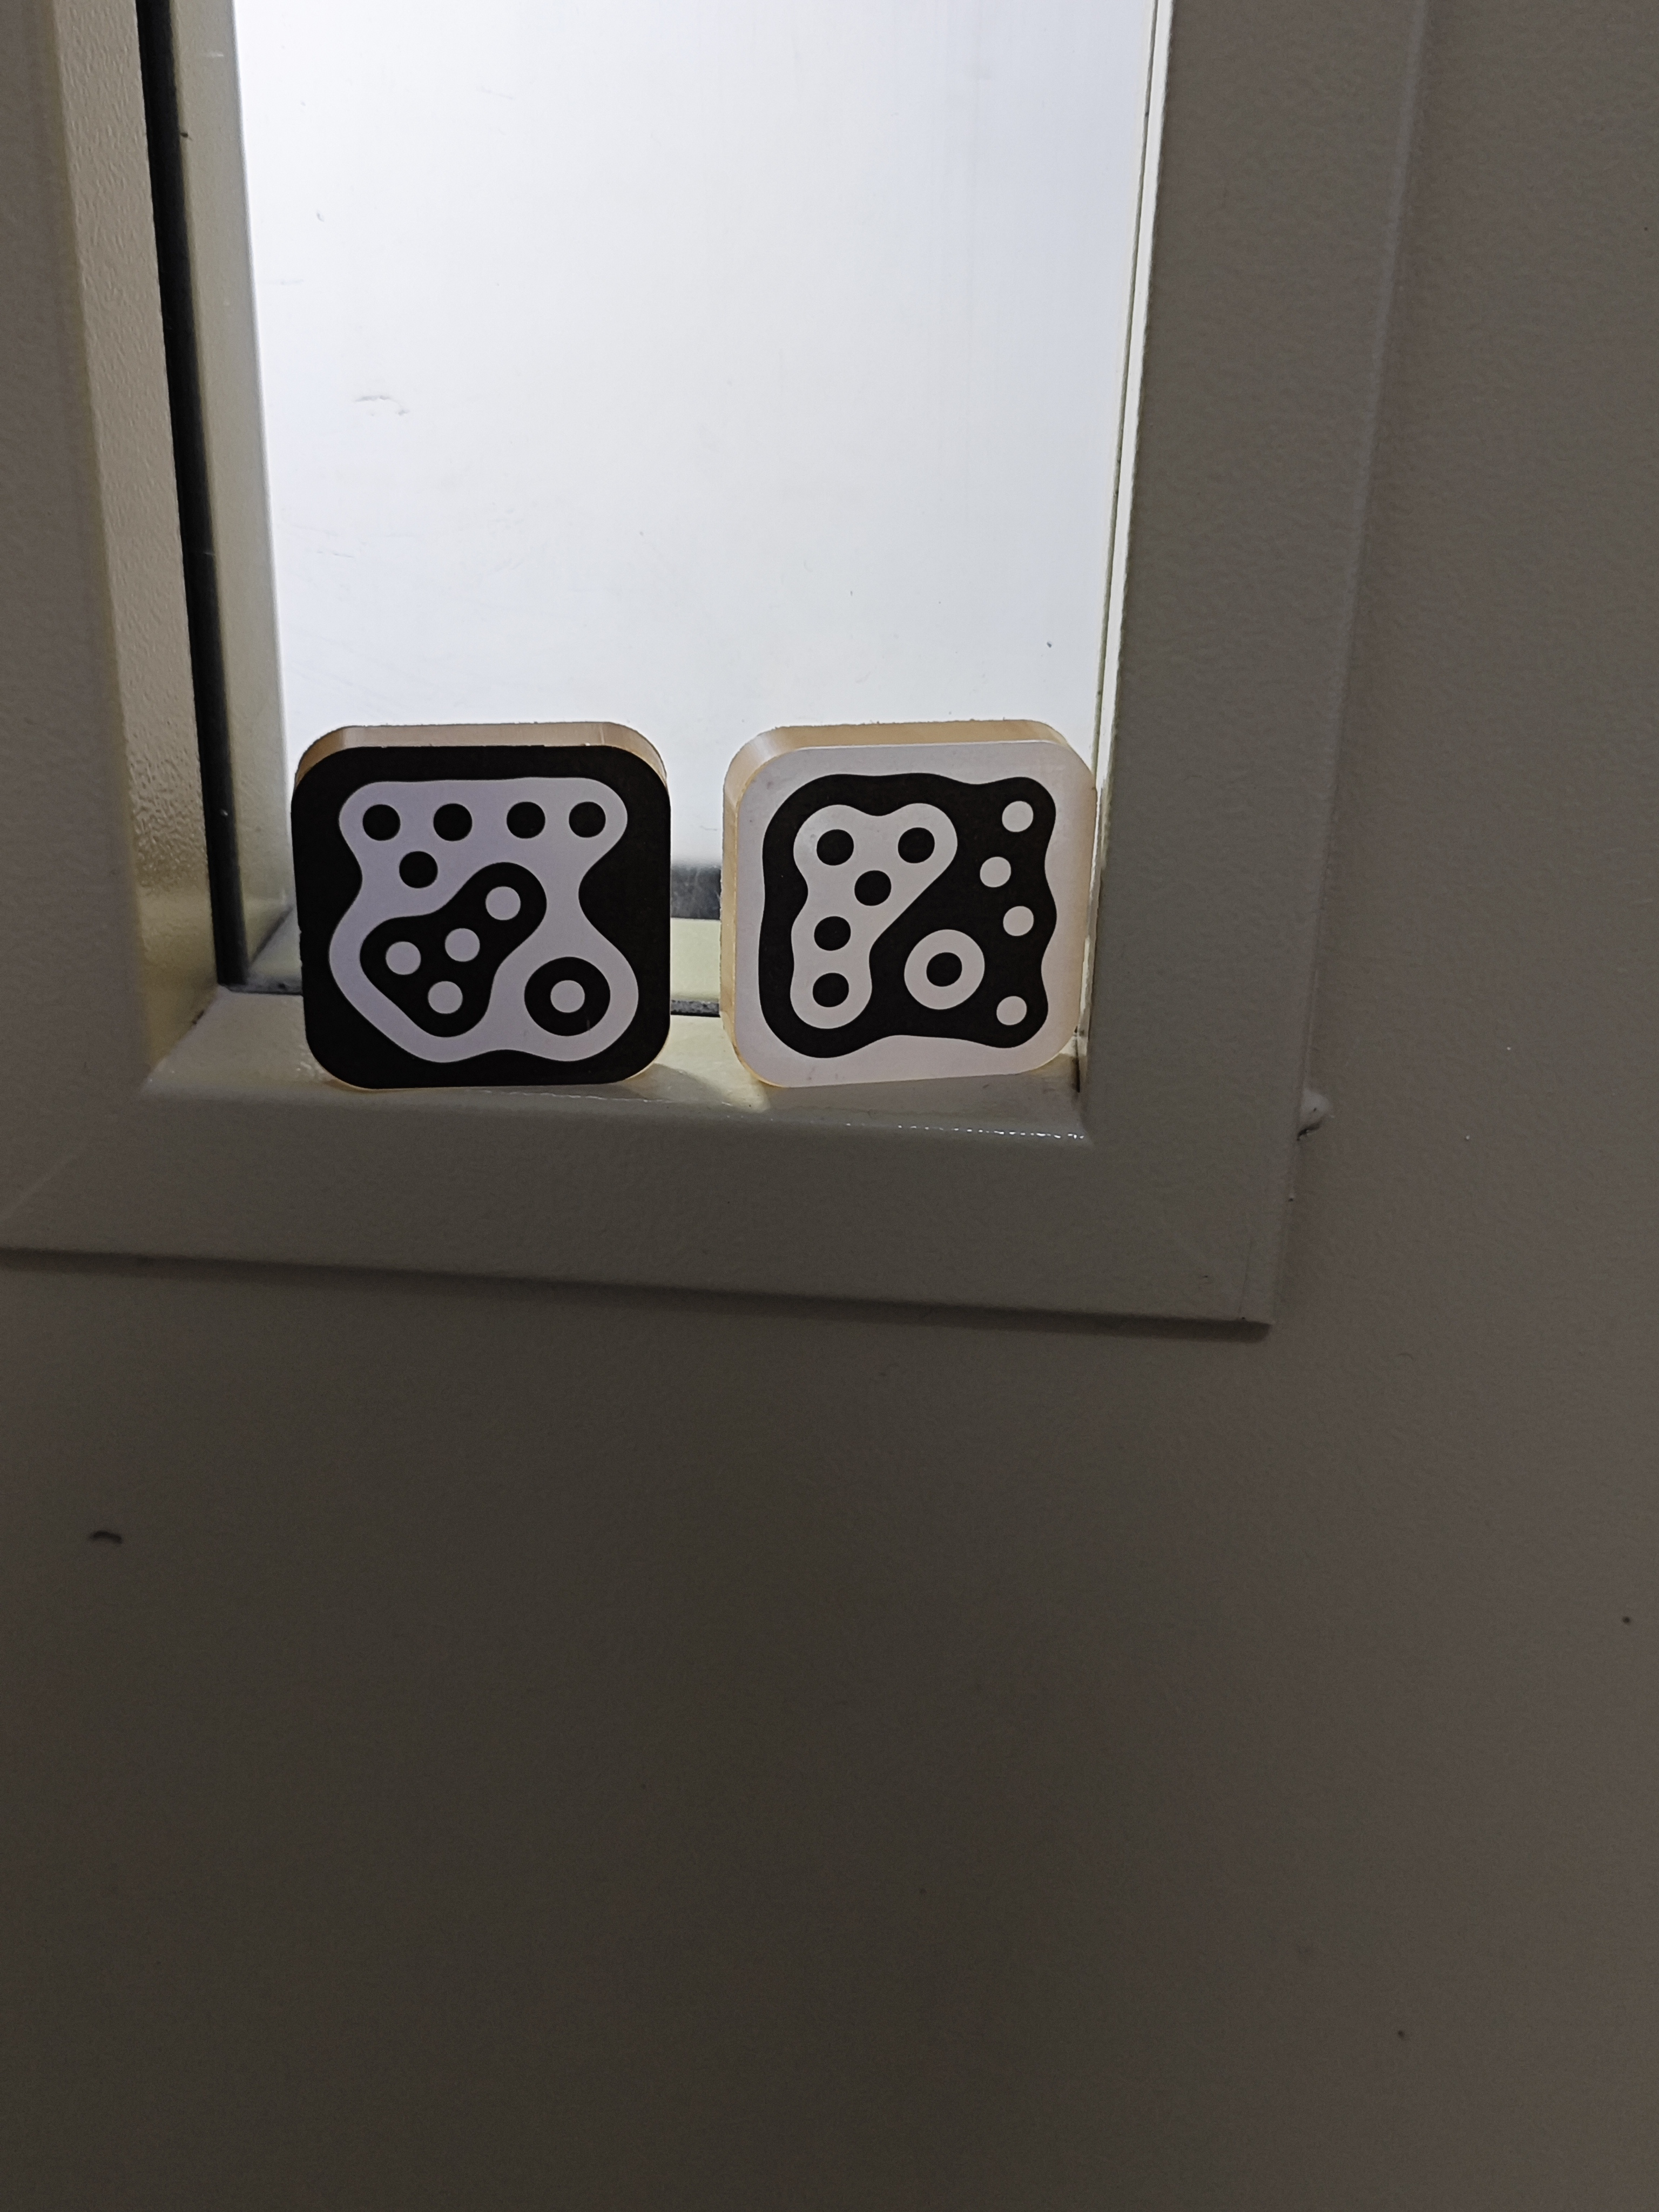mark1: (758, 773, 1058, 1054)
mark2: (328, 777, 638, 1062)
